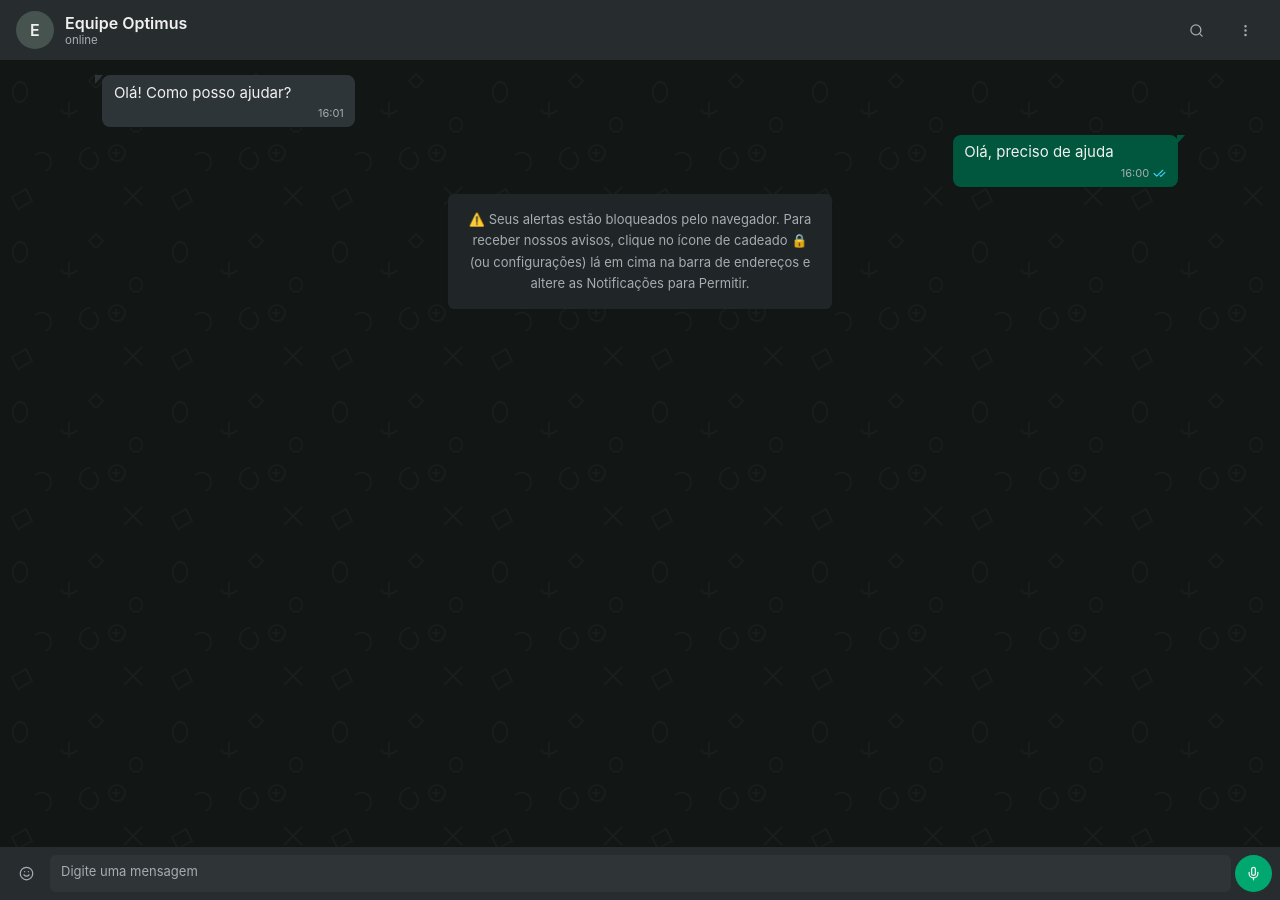
Test case: Web Chat público › oferece somente emoji, microfone e texto, sem anexos
The image size is (1280, 900).
expect the text box with placeholder "Digite uma mensagem" is shown: met, box top-left (50, 854), bottom-right (1230, 892)
expect the button named "Gravar áudio" is shown: met, box top-left (1234, 854), bottom-right (1272, 892)
Click the button named "Escolher emoji" at point(27, 873), box top-left (8, 854), bottom-right (46, 892)
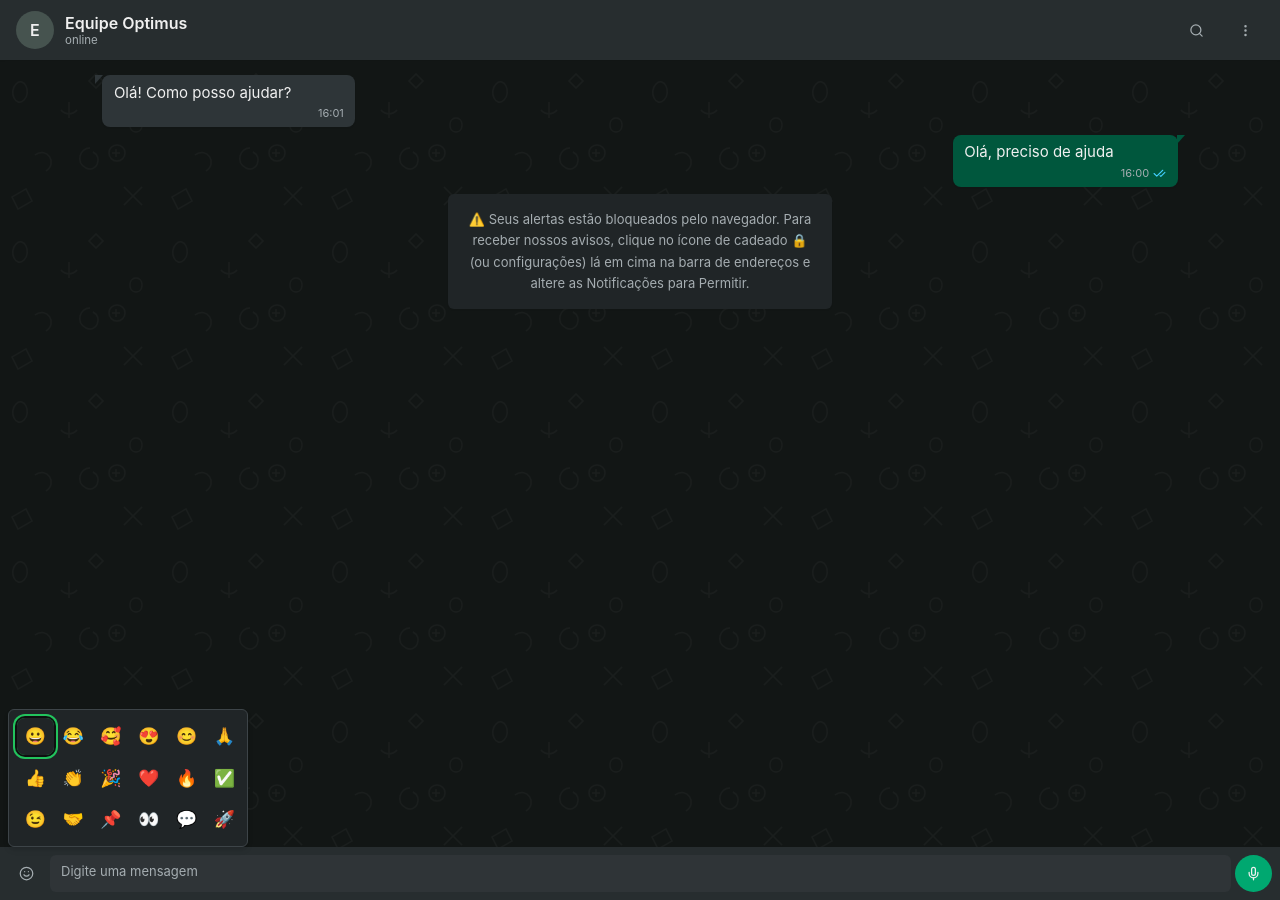
Click the button named "Inserir 😀" at point(35, 736), box top-left (16, 718), bottom-right (54, 755)
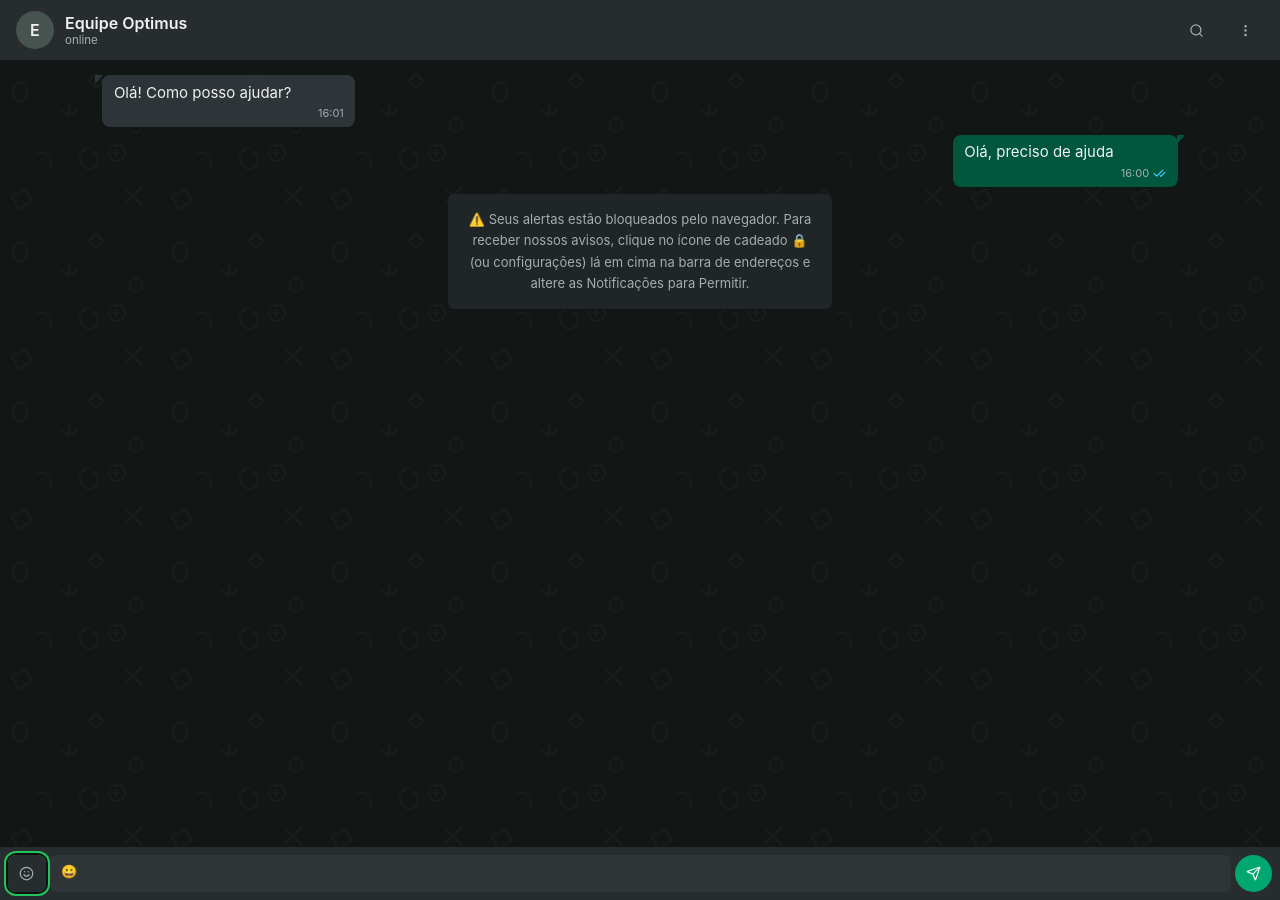
expect the text box with placeholder "Digite uma mensagem" holds "😀": met, box top-left (50, 854), bottom-right (1230, 892)
